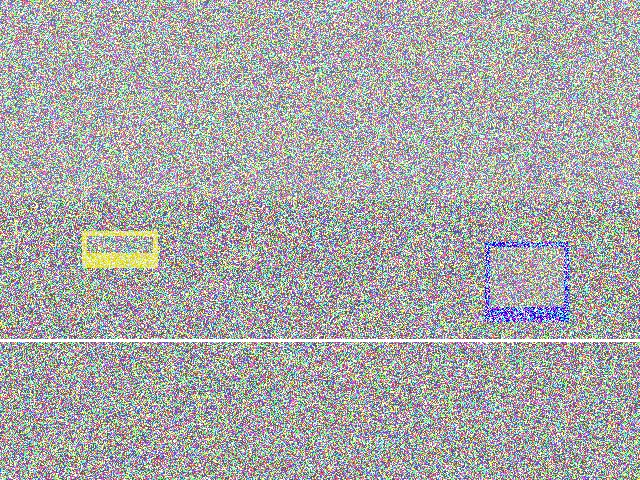motorcycle: (78, 102, 213, 206)
